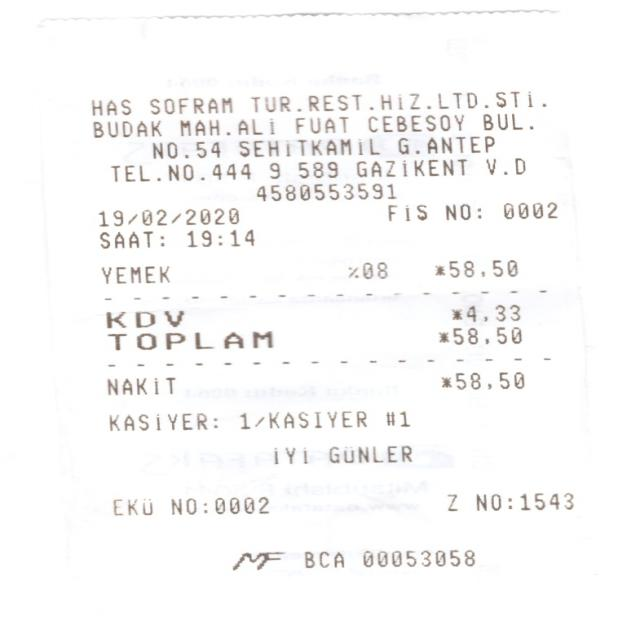text: (250, 90, 545, 112), (106, 331, 270, 350), (110, 162, 250, 182), (255, 182, 394, 201), (97, 207, 236, 226), (237, 138, 379, 156), (354, 158, 466, 178), (360, 548, 473, 567), (238, 411, 364, 428), (365, 113, 464, 133), (108, 413, 215, 430), (474, 492, 572, 510), (170, 496, 266, 514), (397, 136, 492, 154), (105, 309, 184, 328), (149, 96, 231, 114), (328, 444, 410, 462), (434, 260, 515, 278), (441, 372, 523, 389), (438, 327, 519, 344), (92, 120, 161, 138), (98, 230, 163, 248), (100, 266, 168, 283), (151, 141, 218, 158), (186, 229, 253, 246), (107, 377, 174, 394), (451, 304, 518, 320), (501, 201, 556, 219), (230, 552, 284, 570), (294, 116, 349, 133), (178, 118, 229, 136), (482, 112, 533, 130), (384, 203, 429, 221), (112, 498, 154, 516), (268, 447, 308, 465), (297, 160, 336, 178), (485, 157, 524, 175), (90, 98, 130, 115), (302, 550, 342, 567), (444, 202, 481, 220), (235, 118, 274, 135), (346, 262, 385, 278), (384, 410, 408, 426), (441, 493, 459, 512), (267, 162, 279, 178)
